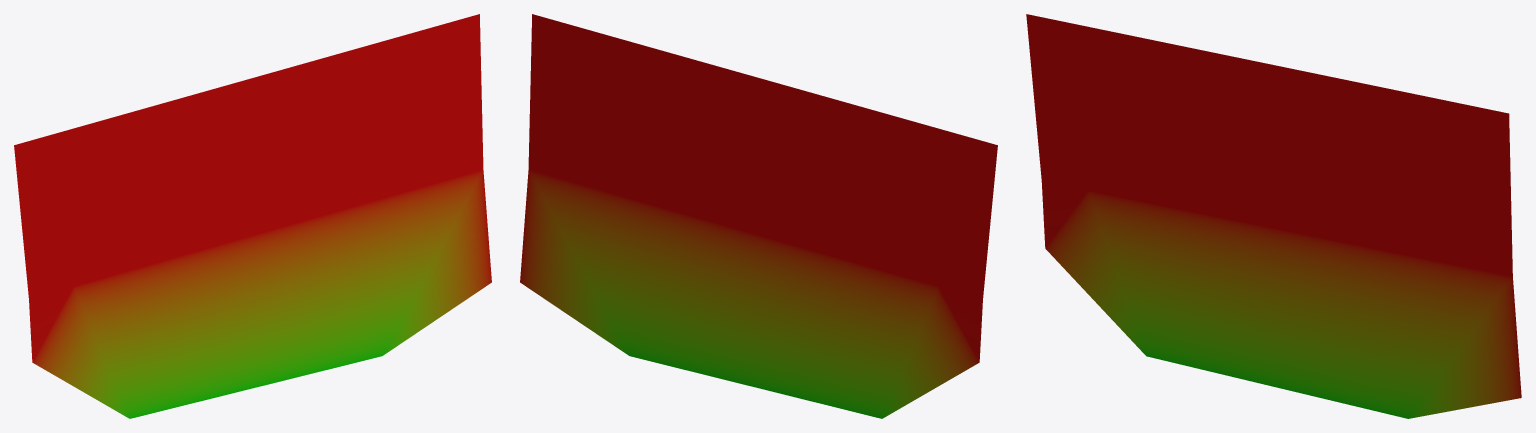
Rendered from Tundra Grass_LOD7_Var29_wk2oaeyqx.fbx.
3 views of the same model, side by side, from view 1: azimuth 30°, elevation 25°; view 2: azimuth 150°, elevation 25°; view 3: azimuth 330°, elevation 25° (orthographic). The views are drawn at different scales.
Visible parts, largest first — view 1: _w6c8_Var29_LOD7; view 2: _w6c8_Var29_LOD7; view 3: _w6c8_Var29_LOD7.
Boxes of the visible parts, x1,y1,x2,y2 form: _w6c8_Var29_LOD7: [14, 14, 491, 418]; _w6c8_Var29_LOD7: [520, 14, 997, 418]; _w6c8_Var29_LOD7: [1026, 14, 1521, 418].
Bounding box in the file's own units: 28.92 × 18.48 × 2.11e-06.
